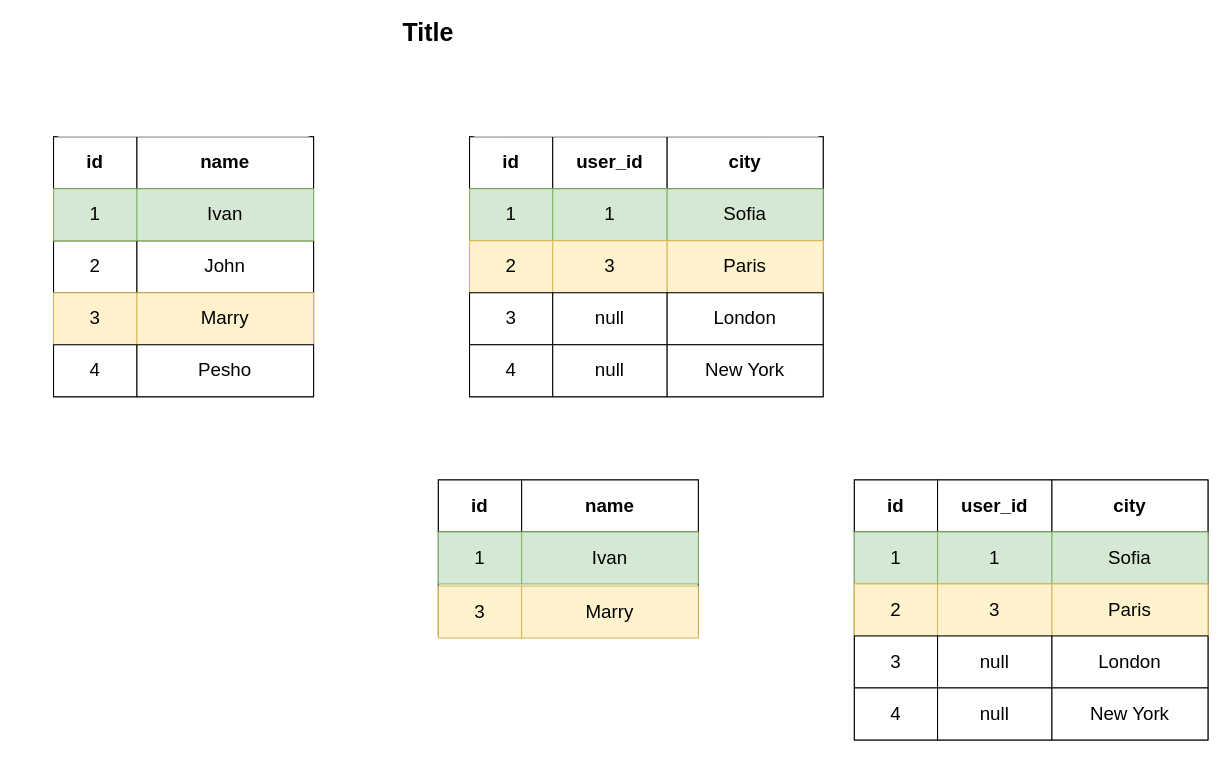
The diagram is 1226 pixels wide and 758 high, and some of its shapes have lost their labels. The centre of each missing label's shape, as x and y in pixels:
addresses: [646,115]
users: [183,115]
